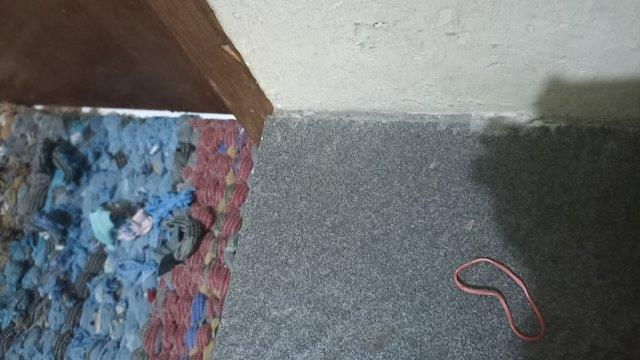karet: (454, 258, 546, 341)
